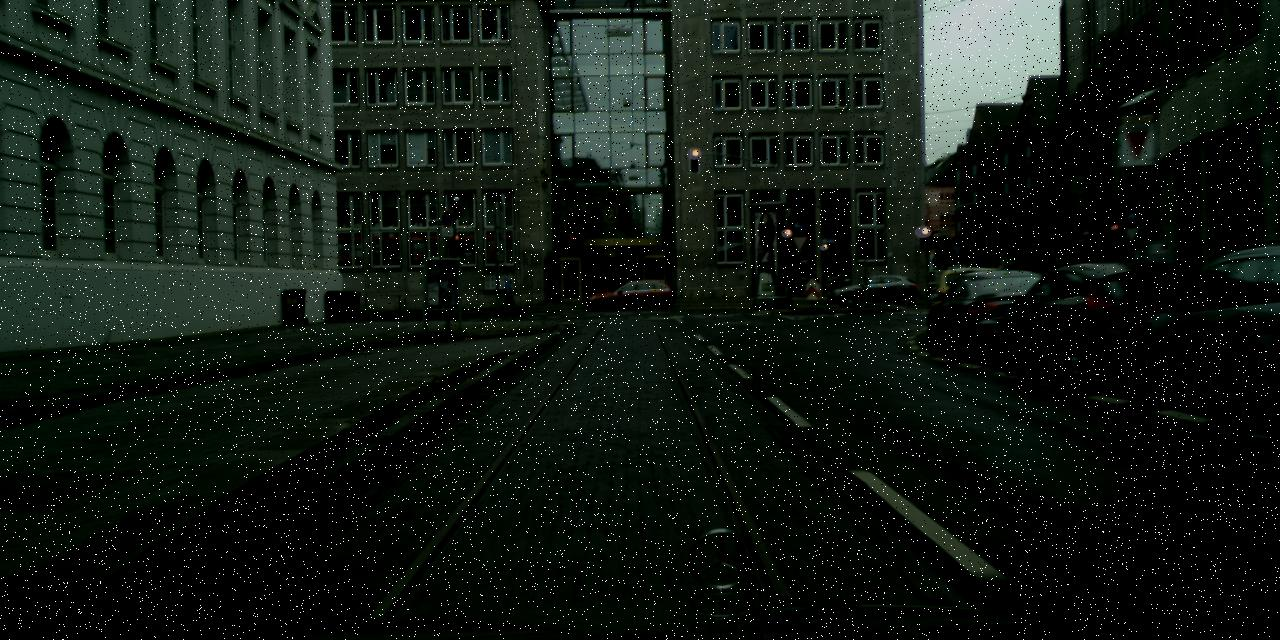ped: (504, 274, 516, 310)
